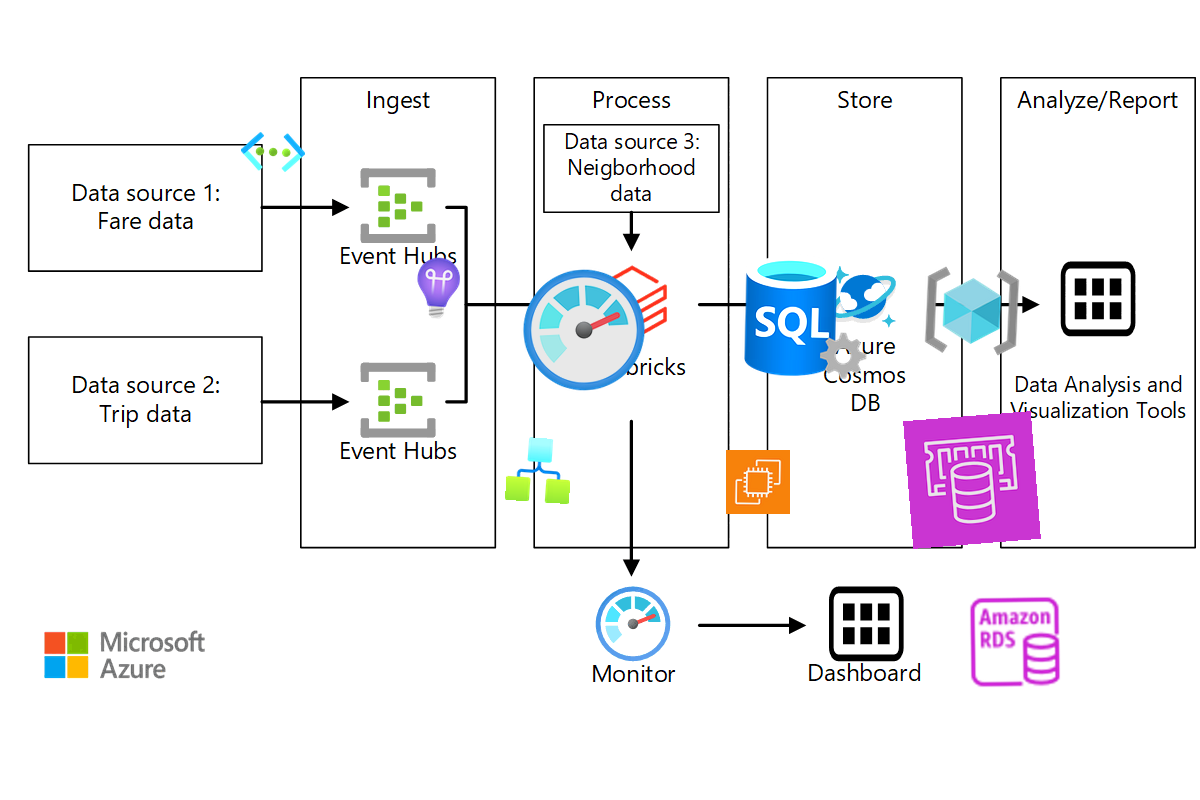aws_amazon_ec2: (725, 449, 791, 515)
aws_amazon_elasticache: (903, 411, 1041, 549)
aws_aurora_amazon_rds_instance: (966, 593, 1064, 691)
azure_application_insights: (403, 253, 473, 323)
azure_logic_apps: (504, 435, 574, 505)
azure_monitor: (516, 262, 652, 398)
azure_resource_groups: (921, 260, 1023, 362)
azure_sql_server: (740, 251, 872, 383)
azure_virtual_networks: (239, 118, 307, 186)
